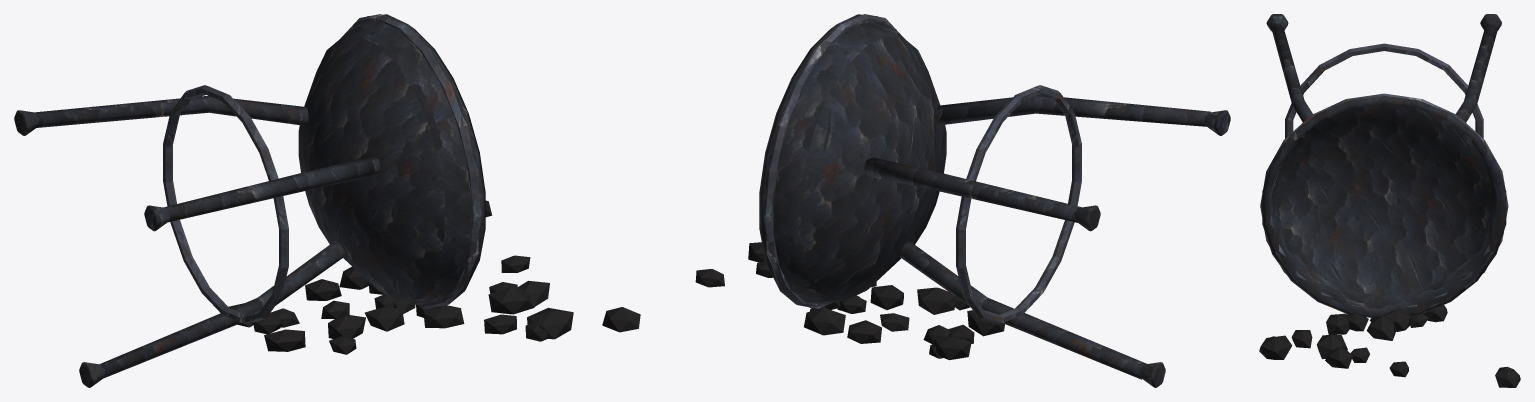
File: th_brazier_toppled.glb
3 renders of one model, left to right at view 1: azimuth 30°, elevation 25°; view 2: azimuth 150°, elevation 25°; view 3: azimuth 270°, elevation 25°, orthographic. The views are drawn at different scales.
Parts seen in each view (by area): view 1: model; view 2: model; view 3: model.
Boxes of the visible parts, box(x1,y1,x2,y2) form: model: box(14, 14, 573, 387); model: box(602, 14, 1230, 387); model: box(1259, 14, 1520, 387).
Size of the model in its own units: 1.1 by 0.628 by 0.6364.
3 materials, 2 textured.
